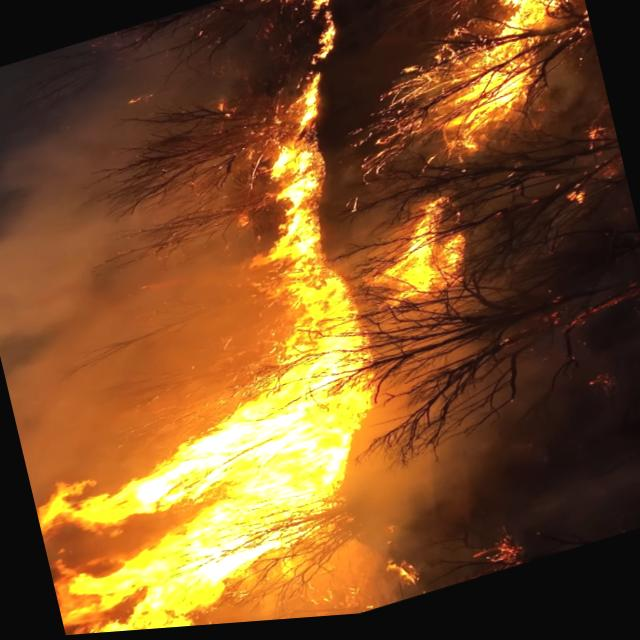fire: (26, 374, 393, 638), (399, 0, 610, 169)
smoke: (0, 164, 221, 482)
